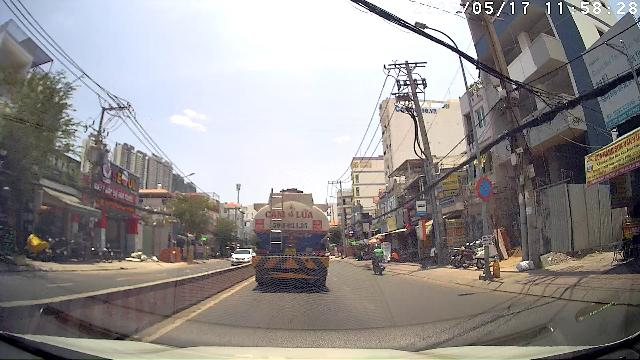131a-cam-do-xe: (476, 177, 493, 202)
